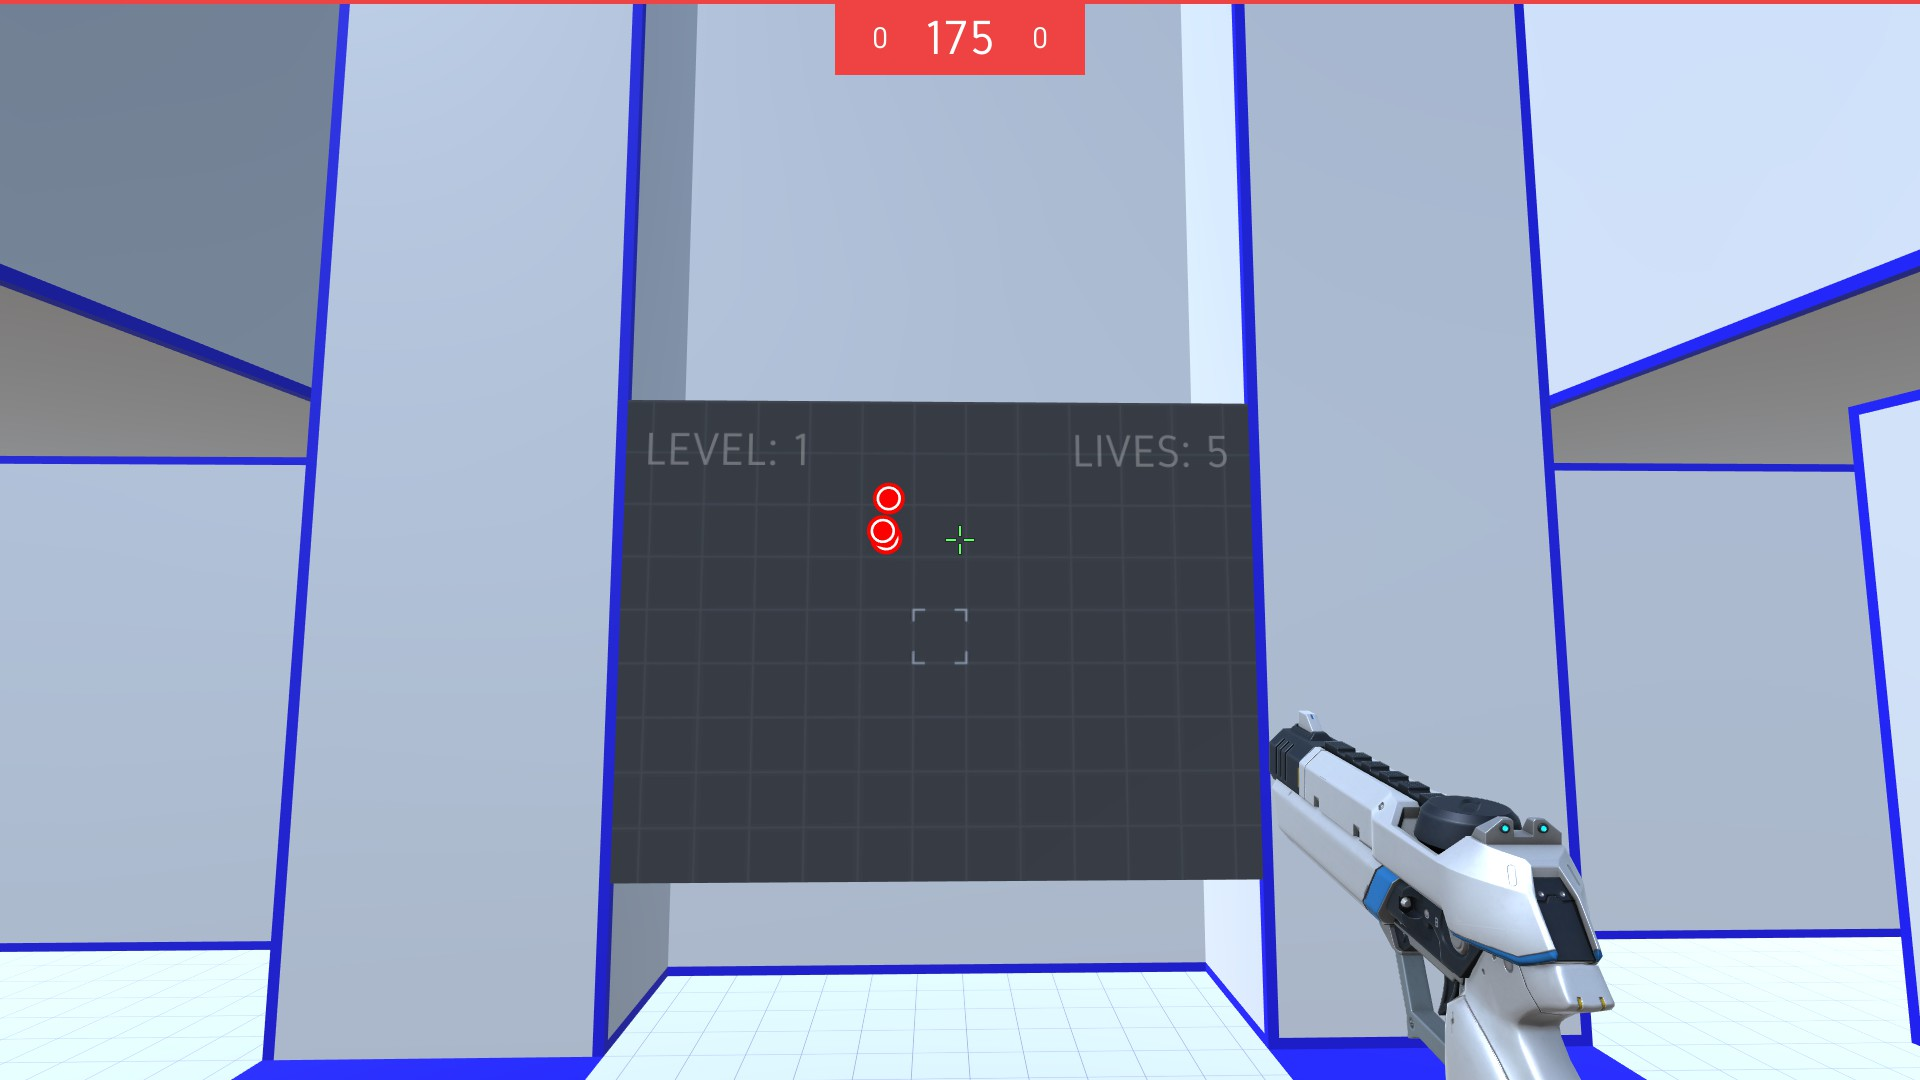target: (873, 480, 906, 513), (866, 516, 897, 541), (873, 543, 905, 555)
